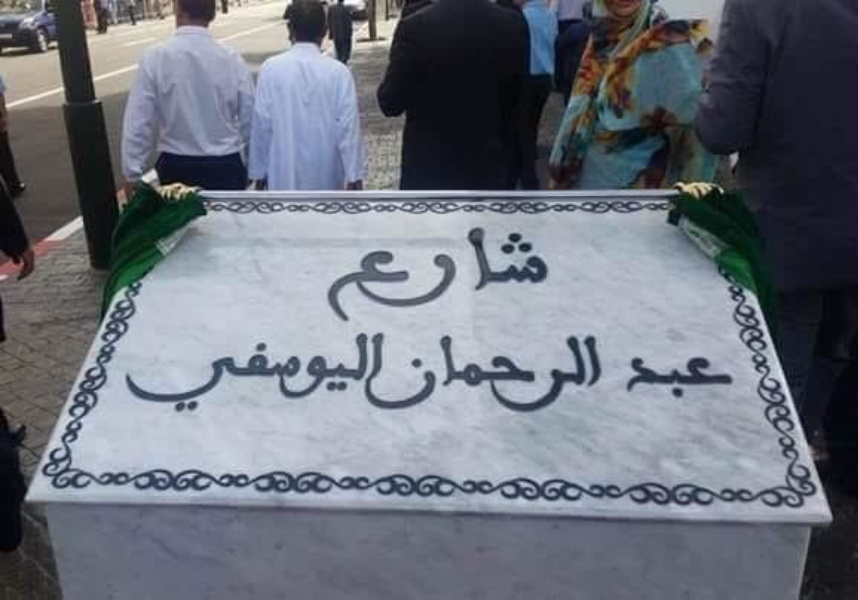text: (353, 223, 368, 326), (369, 223, 384, 326), (385, 223, 400, 326), (401, 223, 416, 326), (417, 223, 432, 326), (433, 223, 448, 326), (449, 223, 464, 326), (465, 223, 480, 326), (481, 223, 496, 326), (497, 223, 512, 326), (513, 223, 528, 326), (529, 223, 544, 326), (593, 324, 609, 419), (449, 324, 464, 419), (465, 324, 480, 419), (481, 324, 496, 419), (497, 324, 512, 419), (513, 324, 528, 419), (529, 324, 544, 419), (545, 324, 560, 419), (561, 324, 576, 419), (577, 324, 592, 419), (161, 327, 176, 416), (177, 327, 192, 416), (193, 327, 208, 416), (209, 327, 224, 416), (225, 327, 240, 416), (241, 327, 256, 416), (257, 327, 272, 416), (273, 327, 288, 416), (289, 327, 304, 416), (305, 327, 320, 416), (321, 327, 336, 416), (337, 327, 352, 416), (353, 327, 368, 416), (369, 327, 384, 416), (385, 327, 400, 416), (625, 350, 640, 409), (641, 350, 656, 409), (657, 350, 672, 409), (673, 350, 688, 409), (689, 350, 704, 409), (705, 350, 720, 409), (721, 350, 736, 409), (545, 223, 553, 326), (401, 327, 410, 416), (346, 223, 352, 326), (155, 327, 160, 416), (737, 350, 740, 409), (447, 324, 448, 419)
